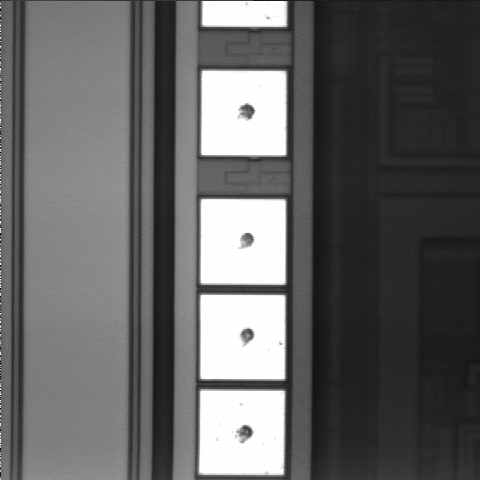pad: (201, 199, 286, 285), (199, 390, 285, 475), (201, 71, 286, 155), (200, 295, 285, 379)
